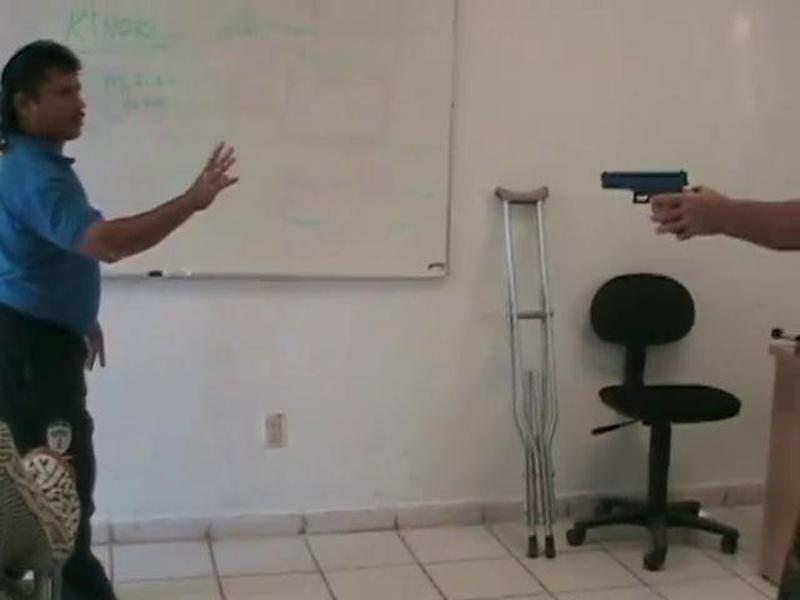Pistola: (598, 164, 693, 210)
